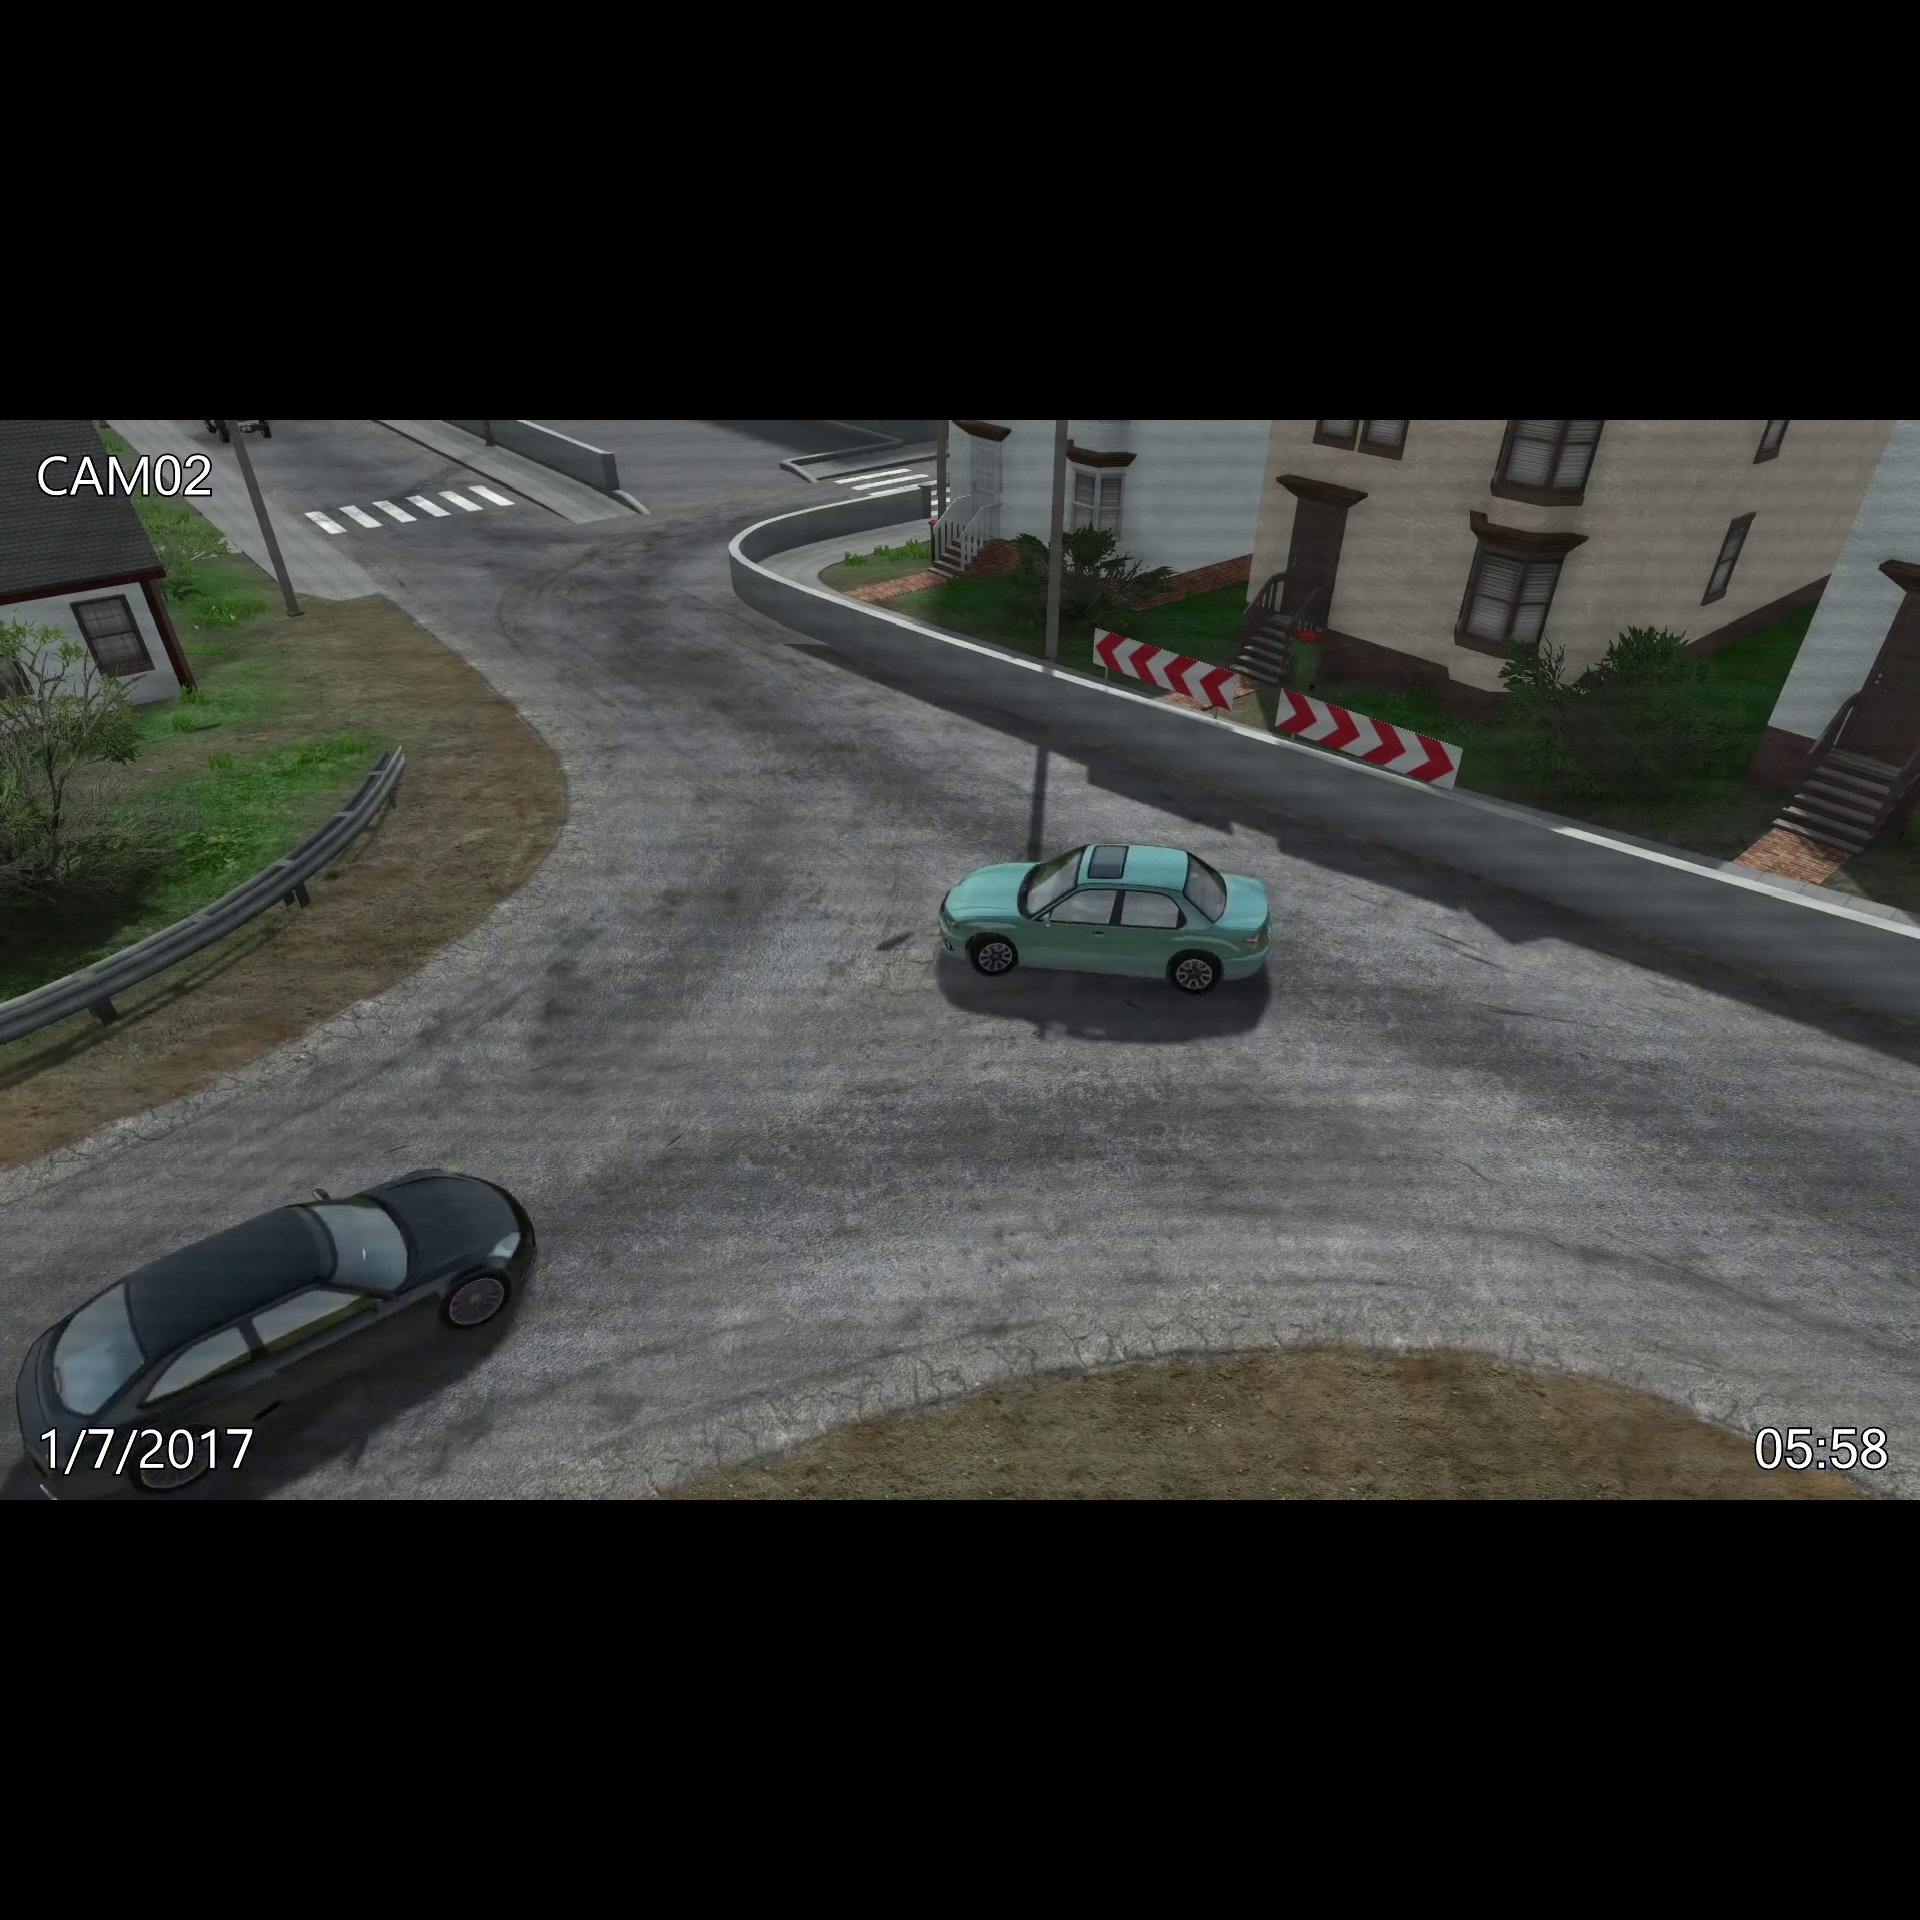vehicle: (9, 1152, 549, 1500), (923, 835, 1284, 1009)
